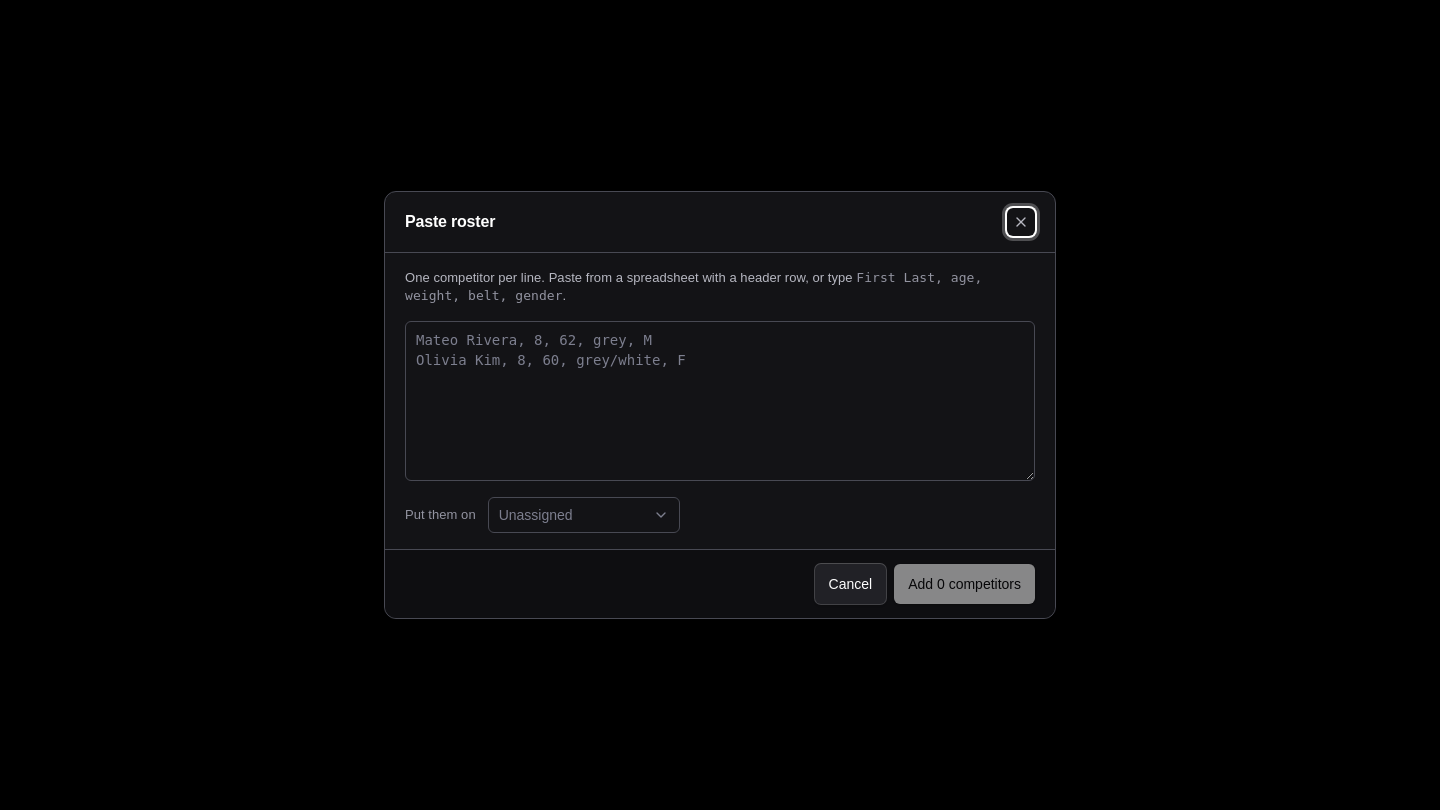
Scenario: PasteRosterDialog › renders the mapping line for a positional paste
The width and height of the screenshot is (1440, 810).
Expected: the dialog is shown, top-left (384, 191), bottom-right (1056, 619)
Type "Mateo Rivera, 8, 62, grey, M" into the text box named "Roster text".
click(720, 401); type("Mateo Rivera, 8, 62, grey, M")  # box top-left (405, 321), bottom-right (1035, 481)
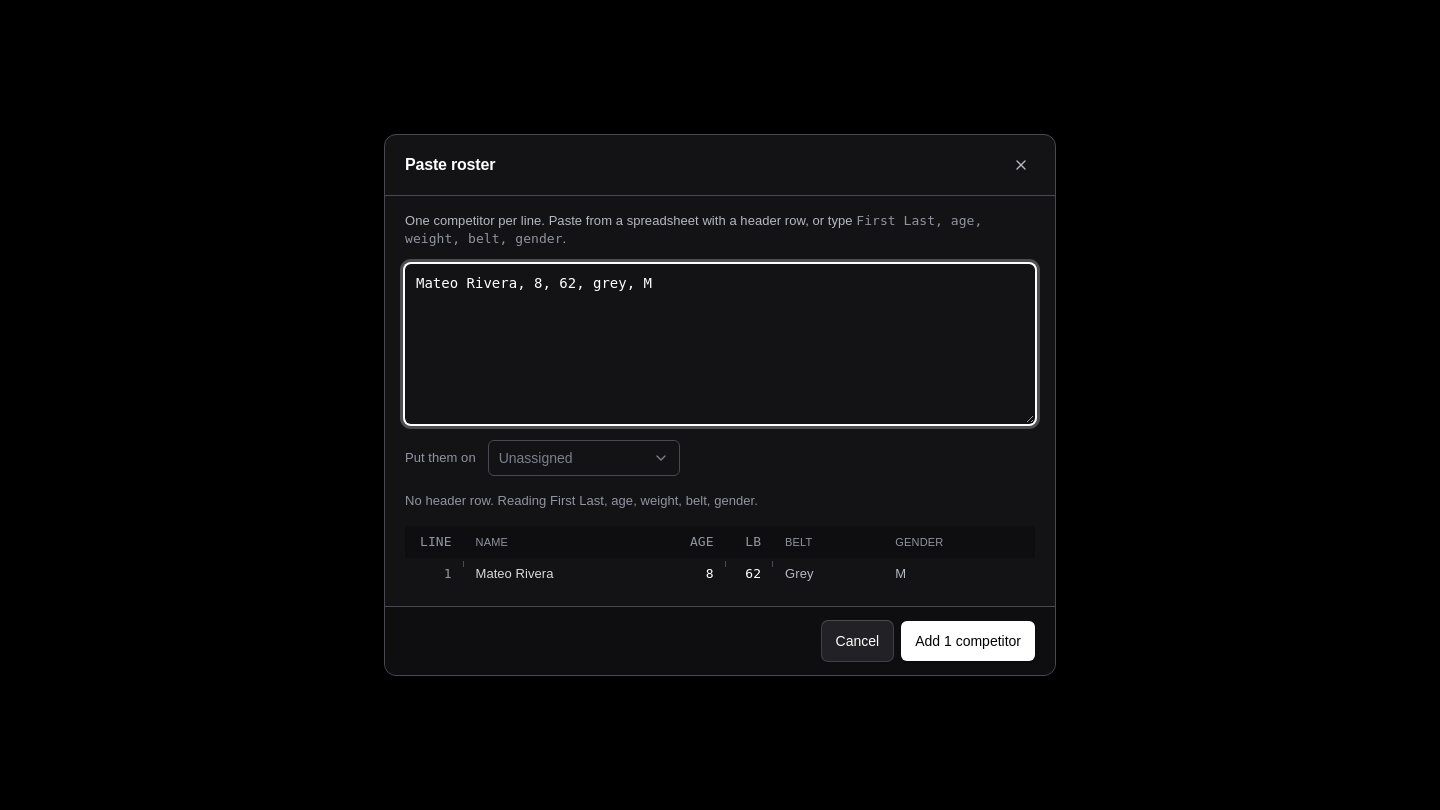
Expected: the text "No header row. Reading First Last, age, weight, belt, gender." is shown, top-left (405, 493), bottom-right (758, 508)
